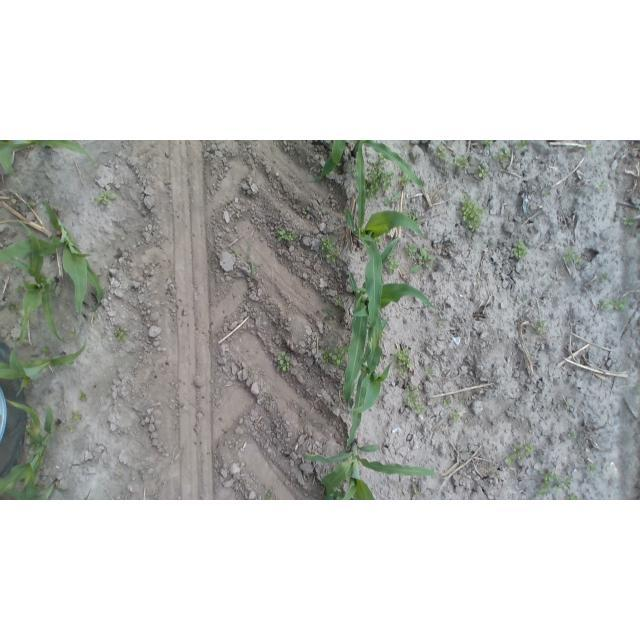Maize: (345, 140, 426, 346), (343, 237, 435, 412), (0, 198, 104, 316), (335, 306, 393, 454), (302, 438, 435, 500), (5, 221, 70, 347), (308, 140, 425, 192), (0, 398, 60, 499), (1, 335, 88, 397), (1, 140, 96, 176), (1, 477, 92, 500)
Weeds: (365, 162, 394, 198), (459, 195, 487, 231), (230, 246, 256, 280), (409, 247, 433, 273), (394, 347, 412, 377), (321, 237, 340, 263), (601, 297, 630, 311), (332, 345, 349, 368), (402, 385, 418, 407), (276, 351, 292, 372), (94, 190, 117, 204), (385, 253, 399, 275), (563, 247, 582, 263), (450, 154, 470, 169), (534, 482, 551, 499), (513, 238, 527, 258), (402, 209, 419, 225), (494, 148, 511, 164), (539, 469, 559, 481), (404, 244, 416, 261), (400, 173, 412, 190), (321, 347, 331, 367), (435, 145, 447, 161), (384, 195, 401, 206), (114, 327, 127, 341), (475, 166, 489, 179), (525, 438, 535, 456), (8, 301, 21, 314), (503, 453, 517, 465), (514, 445, 525, 460), (536, 321, 548, 334), (70, 410, 82, 423), (624, 215, 637, 226), (479, 140, 493, 149), (450, 410, 460, 422), (413, 402, 423, 414), (277, 228, 287, 240), (515, 140, 527, 150), (423, 367, 433, 378), (597, 181, 608, 191), (566, 494, 583, 500), (288, 232, 298, 242), (601, 273, 611, 282), (553, 485, 563, 494), (35, 482, 45, 491), (41, 346, 51, 355), (325, 308, 336, 316), (565, 478, 572, 490), (588, 464, 597, 473), (378, 154, 387, 163), (78, 391, 86, 401), (351, 165, 357, 177), (16, 286, 24, 295), (26, 424, 33, 434), (26, 202, 36, 209), (376, 235, 383, 245), (335, 298, 343, 306), (67, 424, 75, 432), (69, 329, 77, 337), (586, 145, 593, 154), (30, 442, 37, 450), (444, 400, 451, 407), (263, 492, 269, 500), (543, 190, 550, 196), (568, 431, 574, 438), (298, 488, 304, 495), (301, 211, 307, 218), (566, 401, 570, 409), (228, 198, 233, 204), (436, 319, 440, 326), (636, 385, 640, 391), (264, 398, 269, 402), (521, 297, 527, 300), (461, 396, 465, 400), (637, 228, 640, 233), (249, 191, 253, 194), (62, 427, 66, 430)
